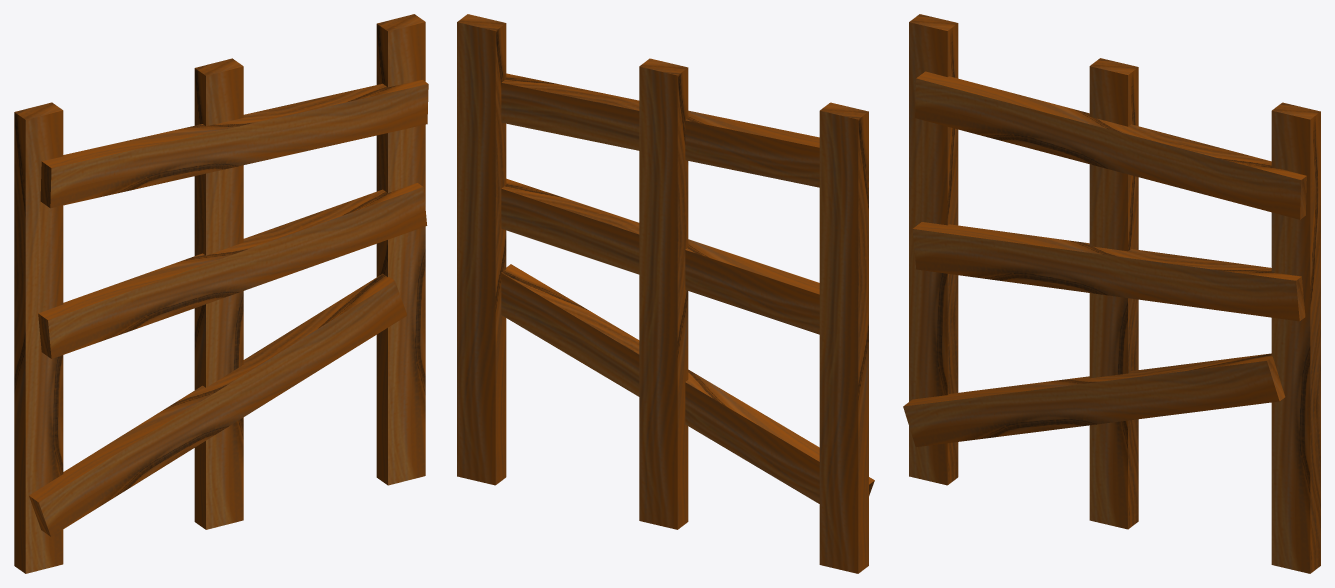
Rendered from PlanksDoor1.glb.
3 views of the same model, side by side, from view 1: azimuth 30°, elevation 25°; view 2: azimuth 150°, elevation 25°; view 3: azimuth 330°, elevation 25° (orthographic).
Visible parts, largest first — view 1: PlanksDoor1; view 2: PlanksDoor1; view 3: PlanksDoor1.
Part boxes in pixels (x1,y1,x2,y2): PlanksDoor1: (14, 14, 428, 573); PlanksDoor1: (457, 14, 874, 573); PlanksDoor1: (903, 14, 1320, 573).
Bounding box in the file's own units: 6.31 × 6.83 × 0.5697.
1 material, 1 textured.
